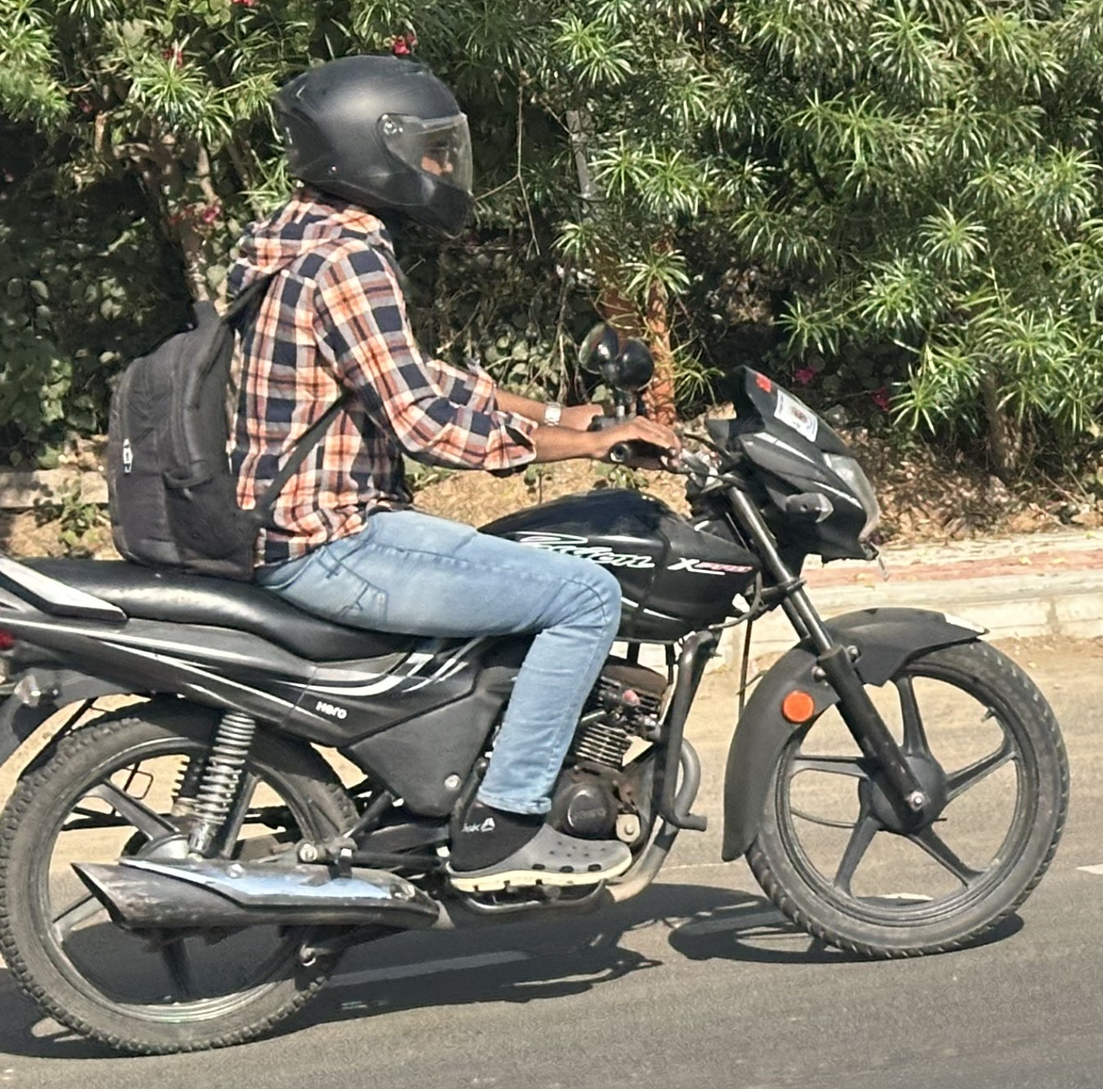BikeWithRider: (0, 41, 1086, 1064)
Helmet: (253, 44, 495, 245)
